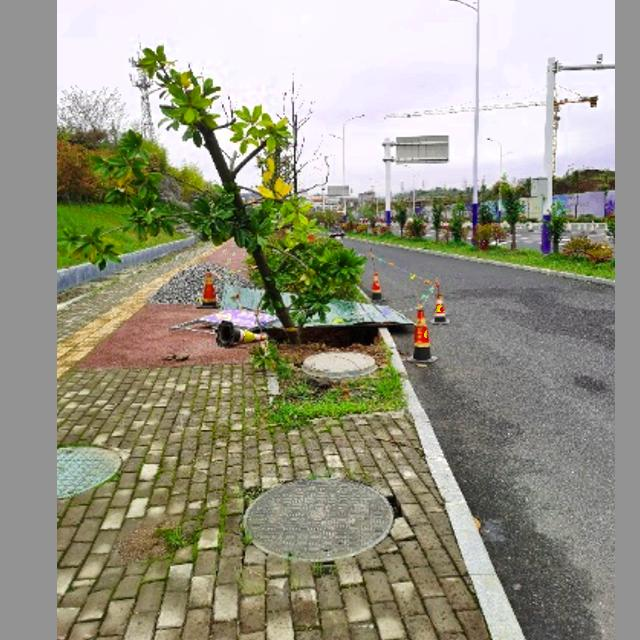good: (243, 477, 394, 560), (58, 443, 121, 501)
